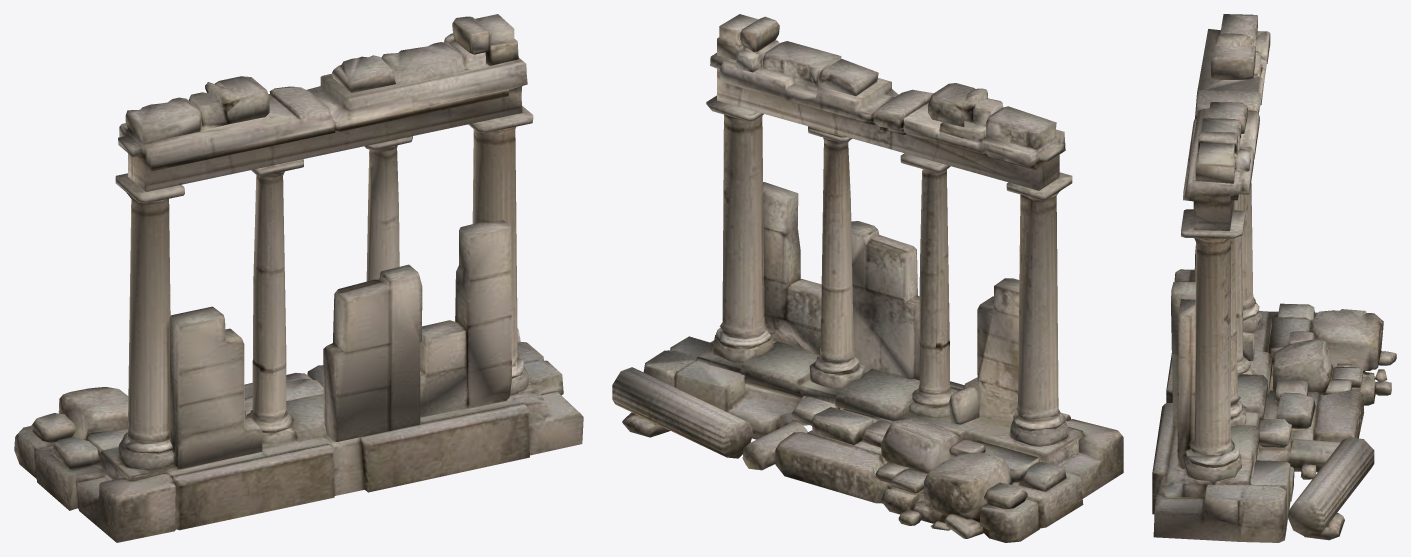
File: broken_ruins.glb
3 renders of one model, left to right at view 1: azimuth 30°, elevation 25°; view 2: azimuth 150°, elevation 25°; view 3: azimuth 270°, elevation 25°, orthographic. The views are drawn at different scales.
Parts seen in each view (by area): view 1: broken_ruins; view 2: broken_ruins; view 3: broken_ruins.
Part boxes in pixels (bbox=[...]): broken_ruins: bbox=[14, 14, 583, 542]; broken_ruins: bbox=[612, 14, 1123, 542]; broken_ruins: bbox=[1152, 14, 1396, 542].
Size of the model in its own units: 5.46 by 4.5 by 2.7.
Materials: 1 (1 with a texture image).
